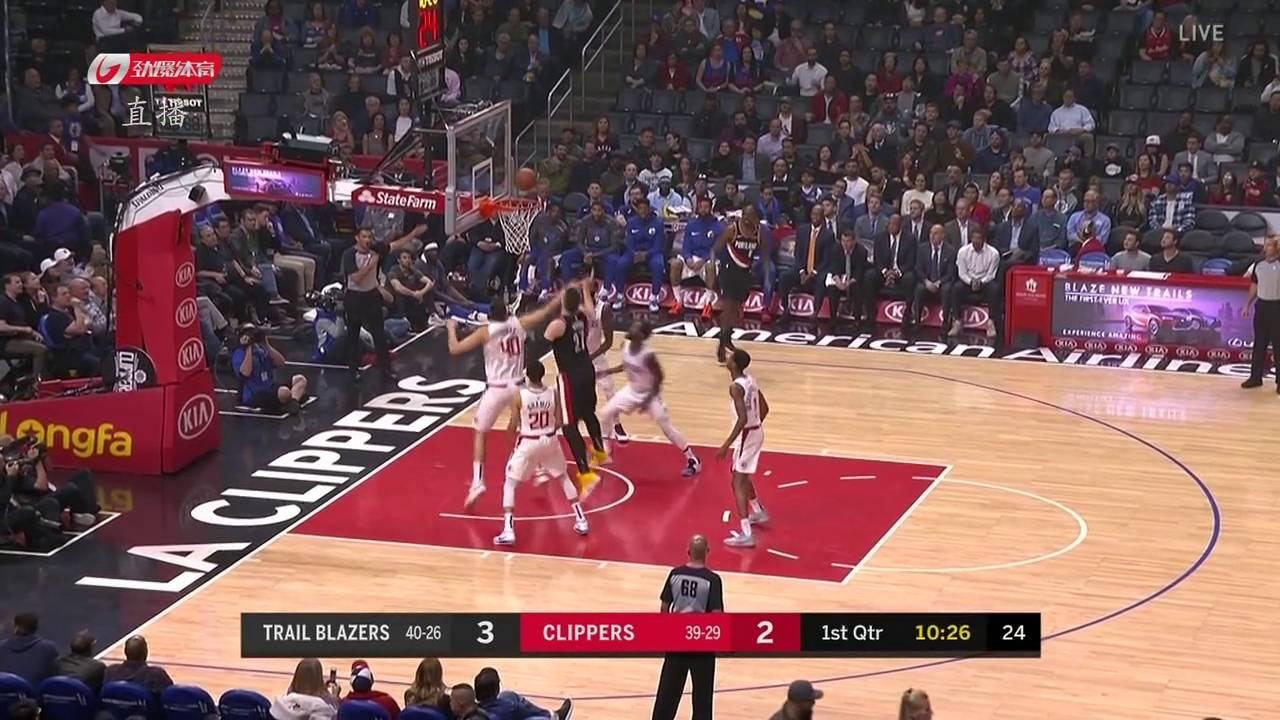basketball: (514, 169, 537, 191)
